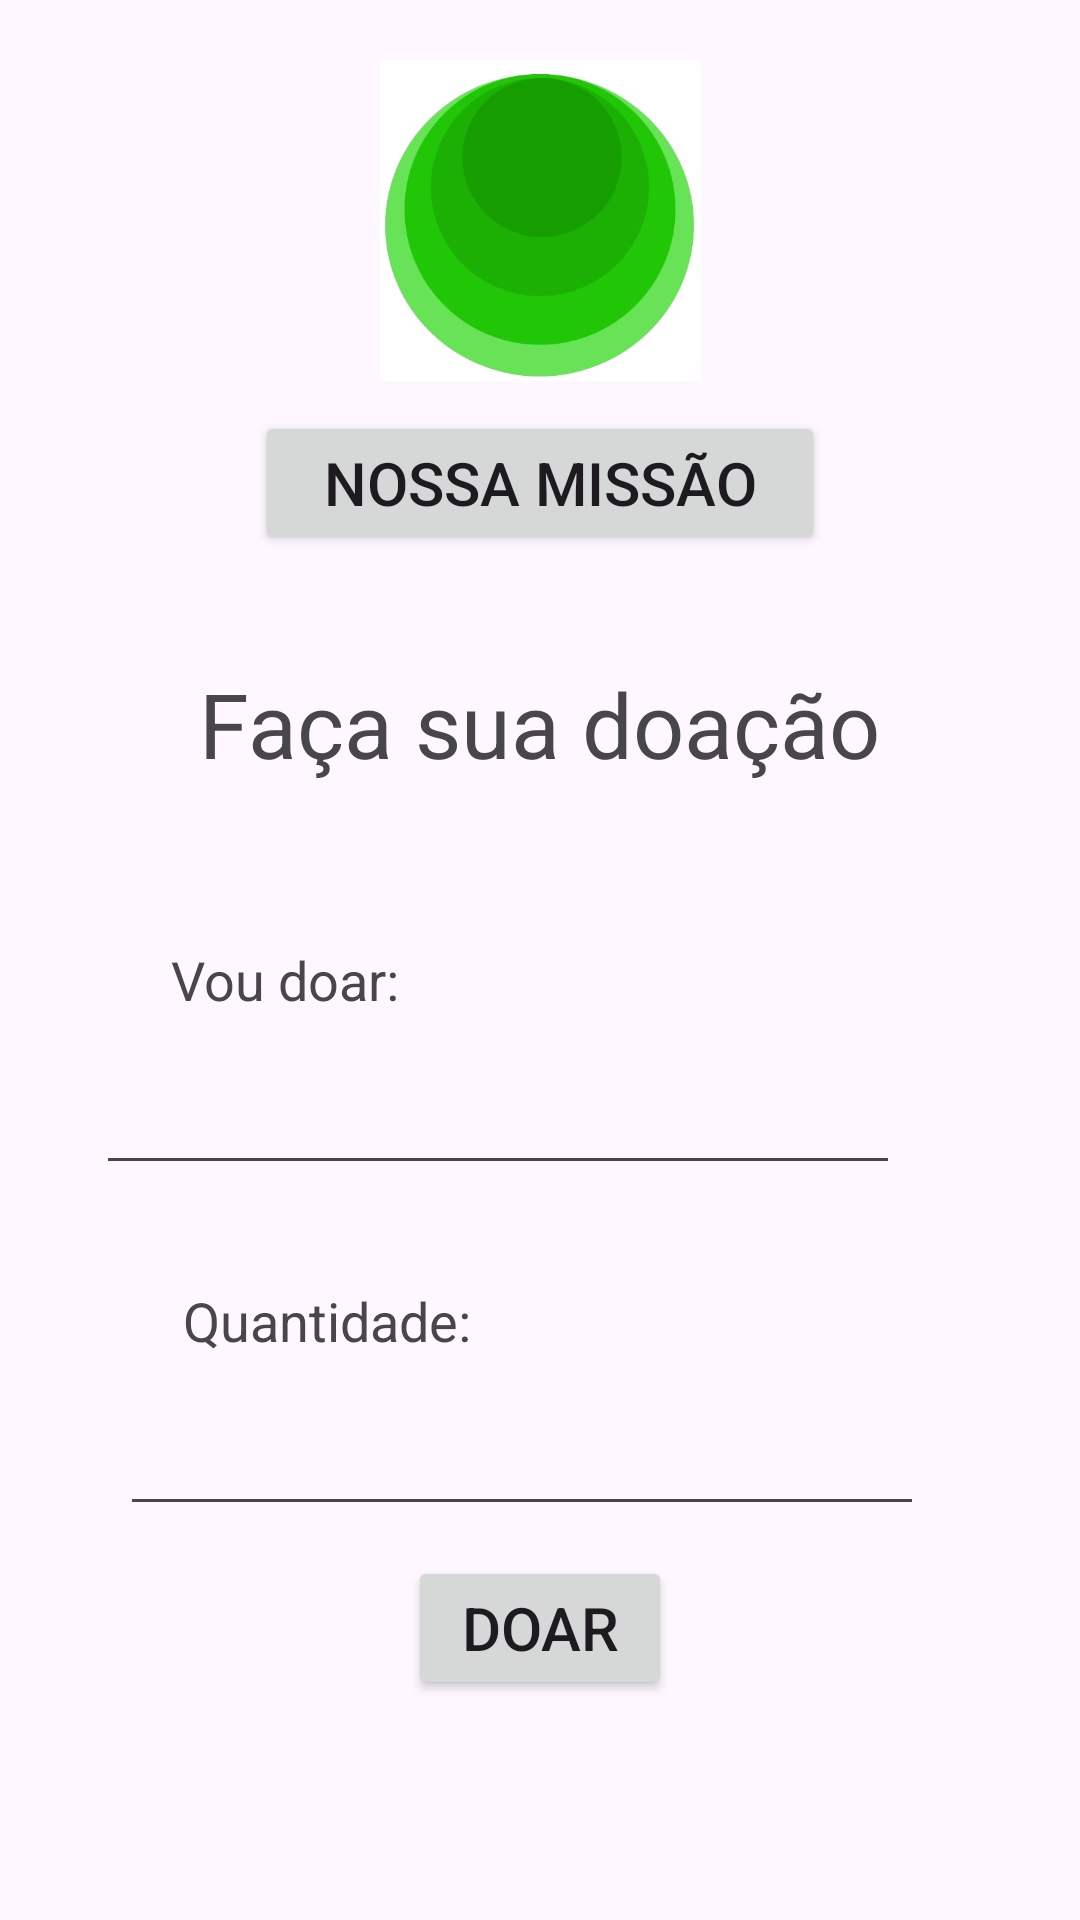

Named icons in this screenshot (1080x1920) and their centers, (x,y):
imagemong: (540,225)
